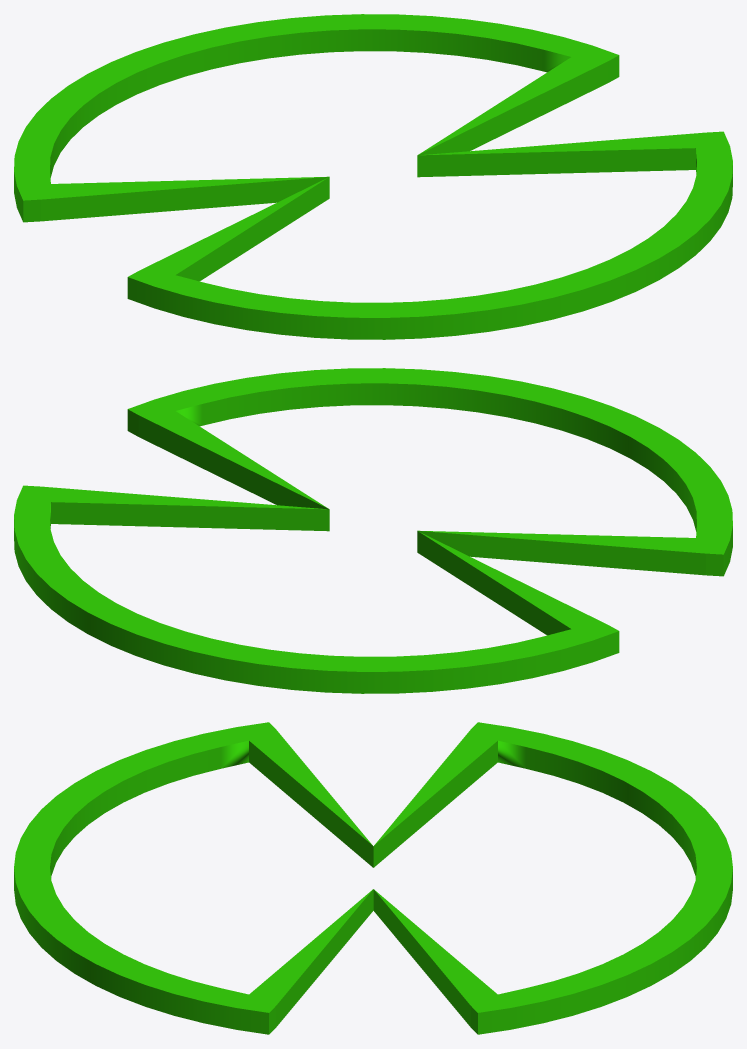
File: TeleportVhon.fbx
3 renders of one model, top to bottom at view 1: azimuth 30°, elevation 25°; view 2: azimuth 150°, elevation 25°; view 3: azimuth 270°, elevation 25°, orthographic.
Parts seen in each view (by area): view 1: TeleVhon; view 2: TeleVhon; view 3: TeleVhon.
Boxes of the visible parts, <box> form: TeleVhon: <box>14,14,732,339</box>; TeleVhon: <box>14,368,732,693</box>; TeleVhon: <box>14,722,732,1034</box>.
Size of the model in its own units: 38.09 by 1.33 by 39.81.
